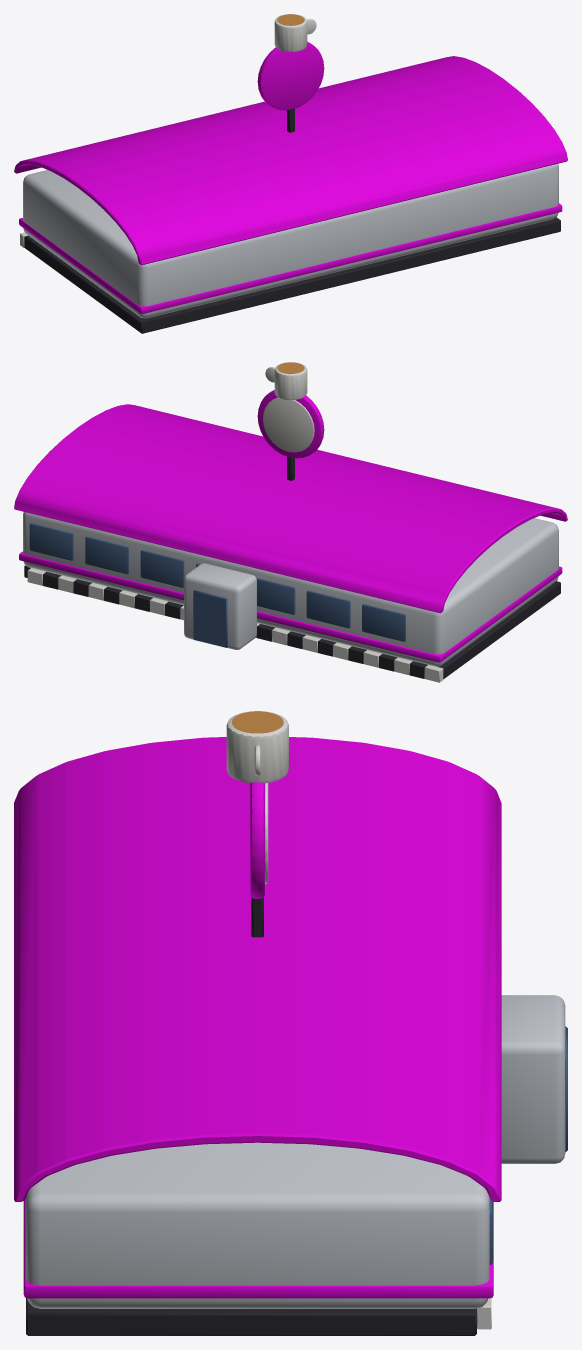
Rendered from Poi_Diner.fbx.
The picture shows the model from 3 angles, top to bottom: view 1: azimuth 30°, elevation 25°; view 2: azimuth 150°, elevation 25°; view 3: azimuth 270°, elevation 25°; orthographic projection. The views are drawn at different scales.
Visible parts, largest first — view 1: Poi_Diner; view 2: Poi_Diner; view 3: Poi_Diner.
Boxes of the visible parts, x1,y1,x2,y2 form: Poi_Diner: [14, 14, 567, 333]; Poi_Diner: [14, 362, 567, 682]; Poi_Diner: [14, 711, 567, 1335].
Bounding box in the file's own units: 22.4 × 10.95 × 13.14.
